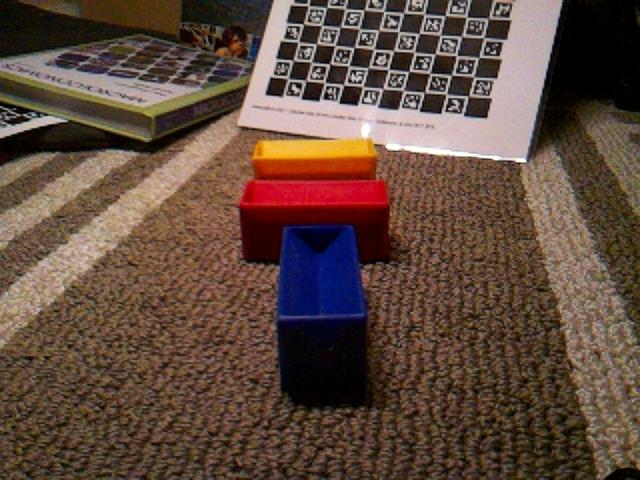blue: (275, 222, 371, 406)
red: (238, 178, 392, 265)
yellow: (251, 137, 379, 180)
